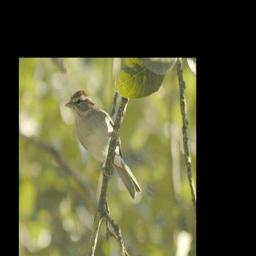Sparrow: (64, 88, 141, 200)
